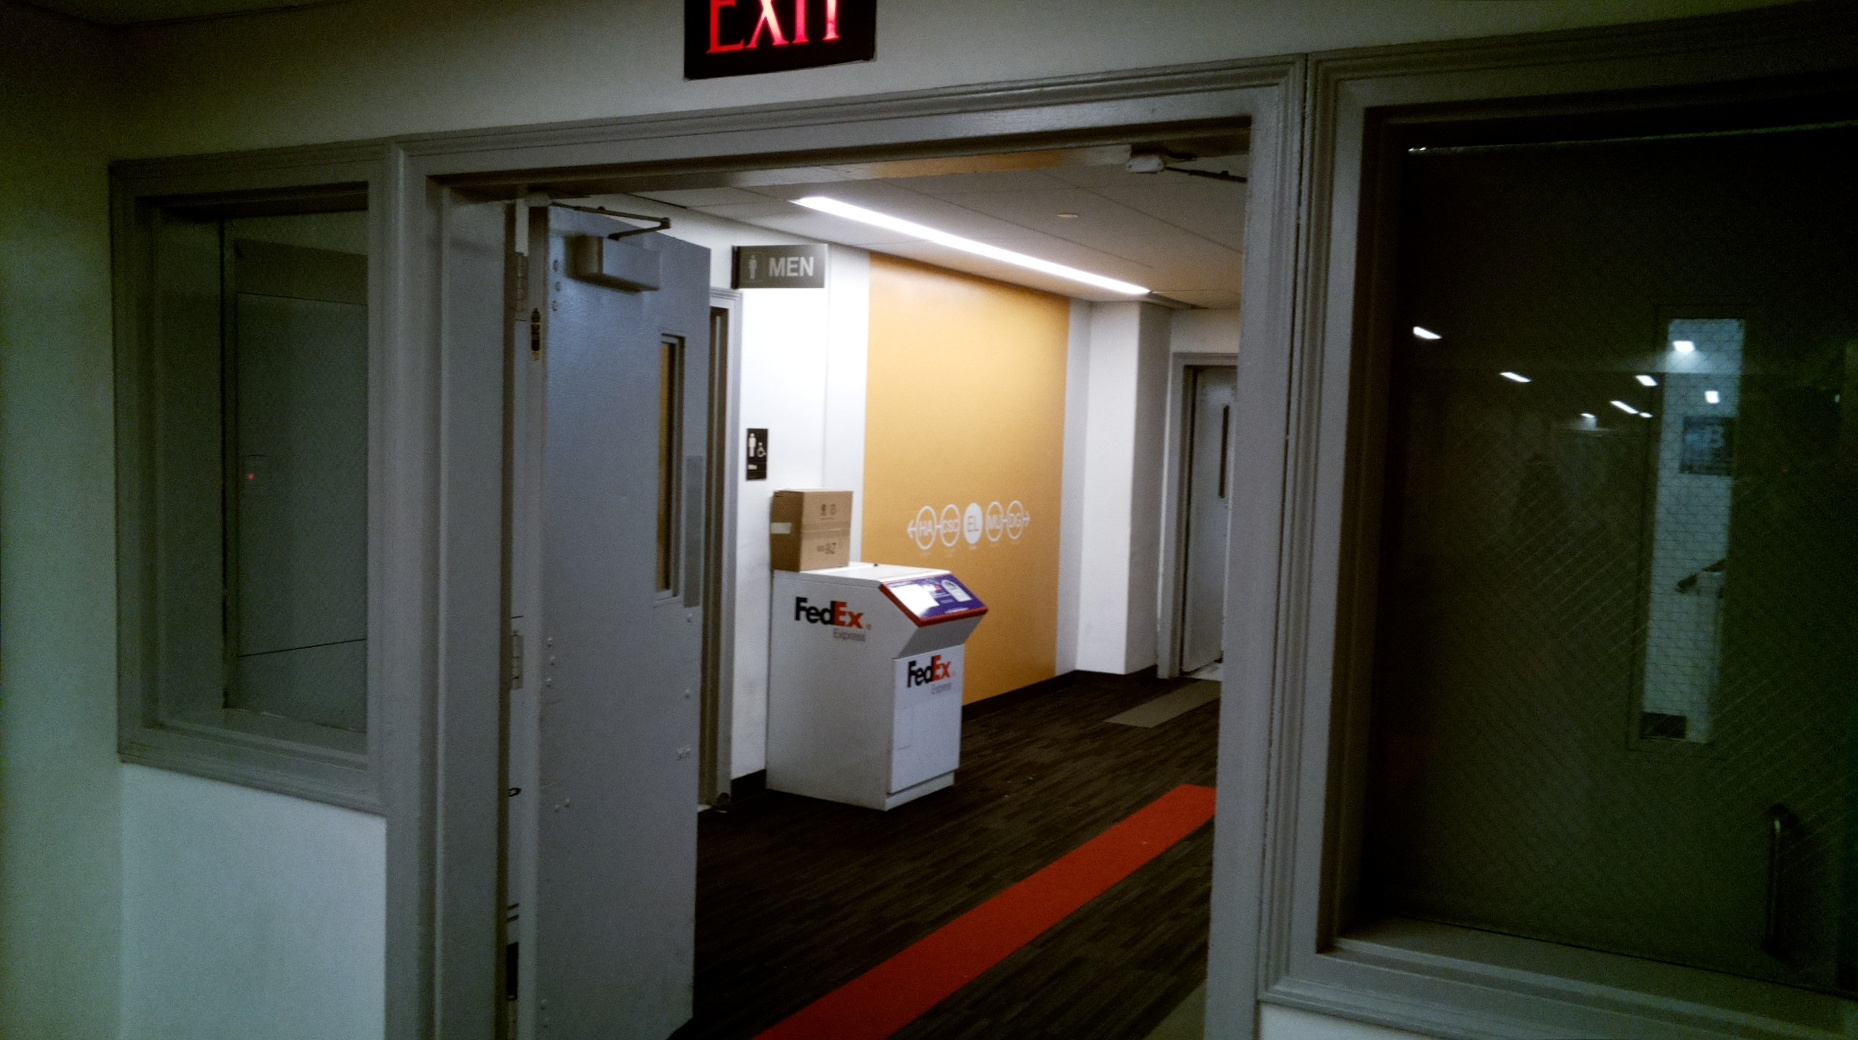bathroom sign: (744, 426, 769, 484)
exit sign: (681, 1, 882, 83)
